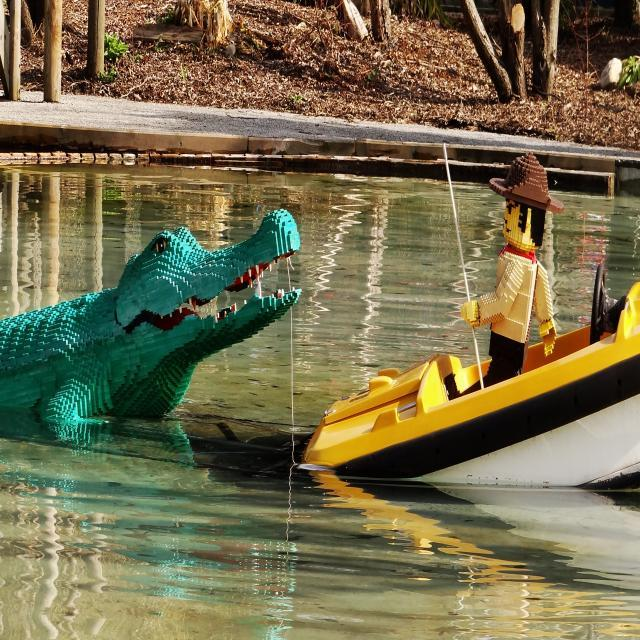crocodile: (0, 212, 301, 424)
